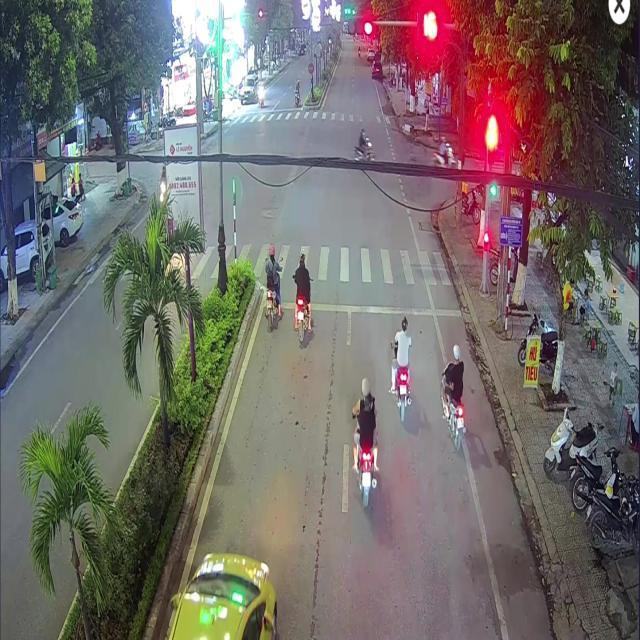motobike: (348, 366, 379, 523), (387, 306, 414, 445), (453, 375, 482, 499), (290, 247, 311, 343), (263, 244, 281, 330)
red_light: (484, 110, 498, 172), (345, 13, 372, 38)
stop_line: (262, 299, 460, 316)
